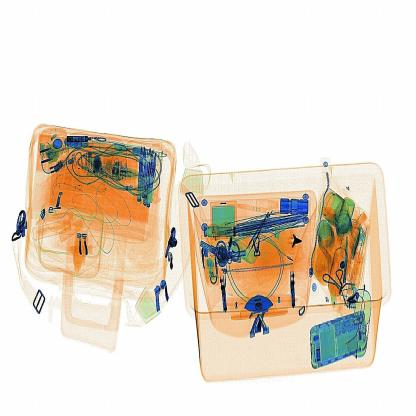gun: (281, 223, 310, 262)
